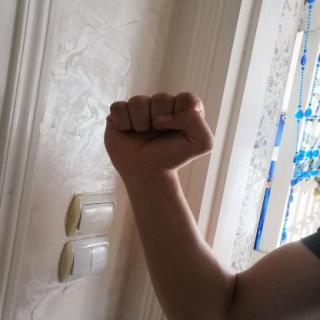SAD: (88, 83, 228, 184)
